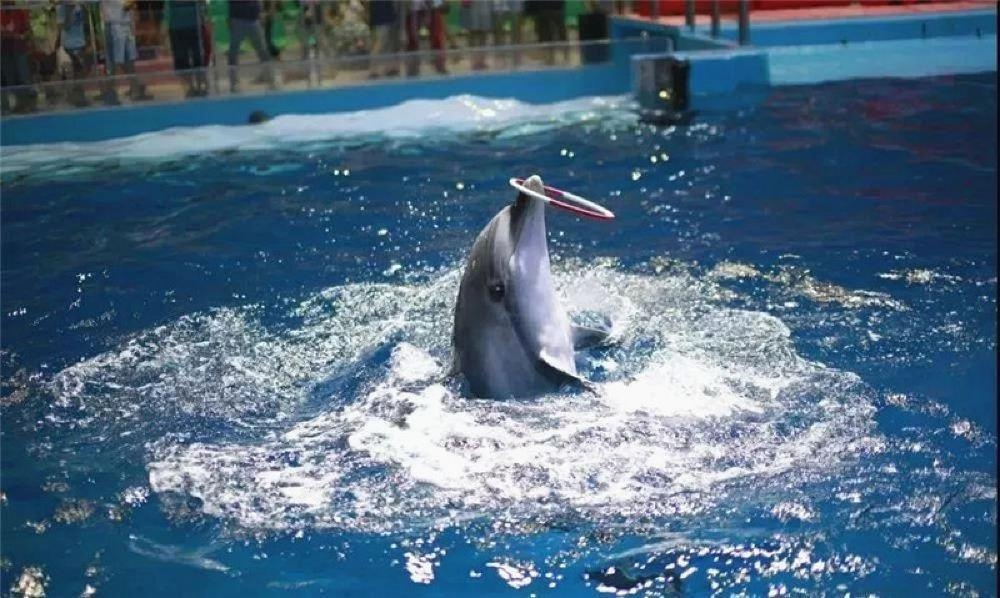fish: (456, 174, 613, 409)
